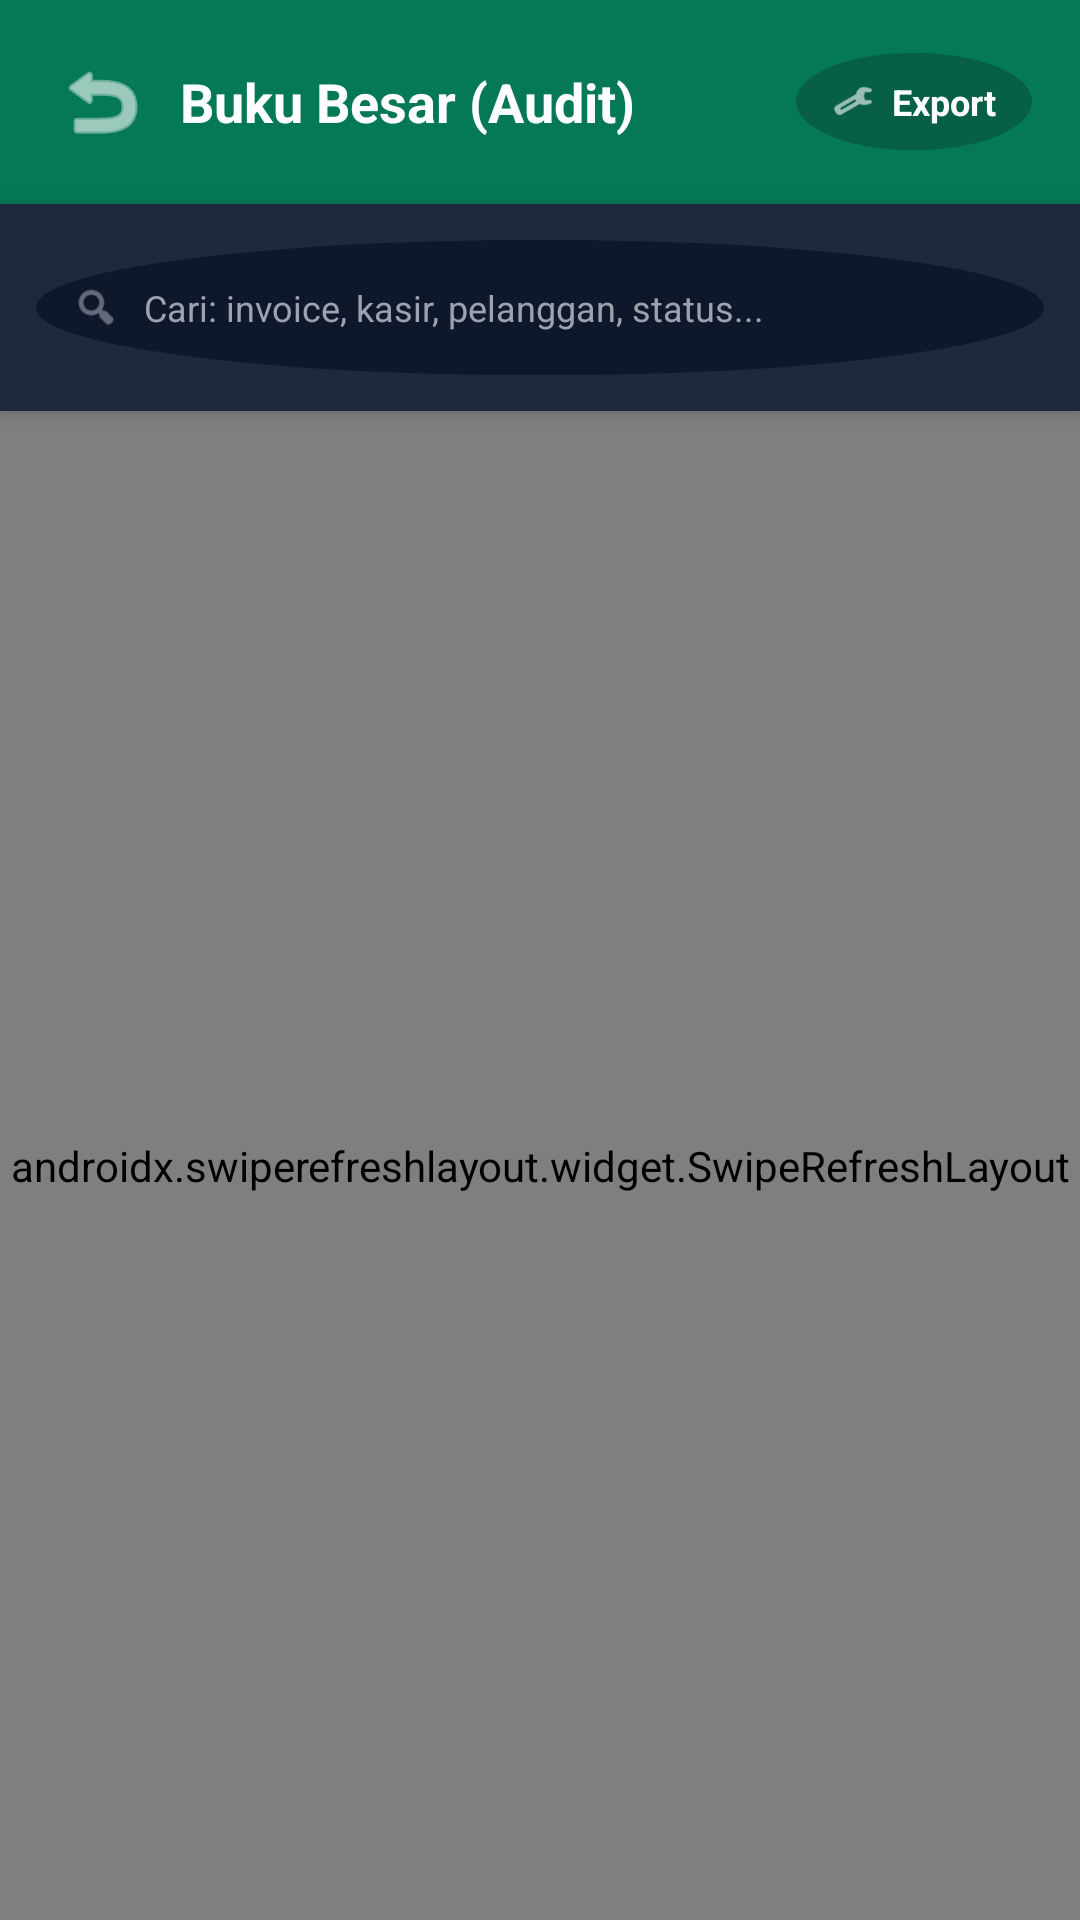

Named icons in this screenshot (1080 × 1920) and their centers, [x,y]:
manage: [853,101]
revert: [103,102]
search: [96,307]
